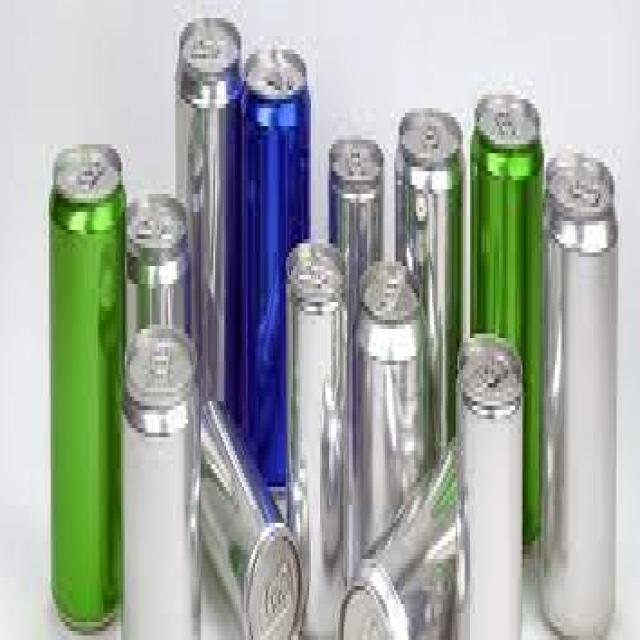Metal: (540, 154, 618, 637), (47, 180, 127, 623), (471, 86, 544, 541), (244, 41, 313, 492), (174, 24, 249, 417), (124, 329, 200, 640), (456, 336, 525, 637), (53, 148, 118, 207), (364, 257, 420, 317)
